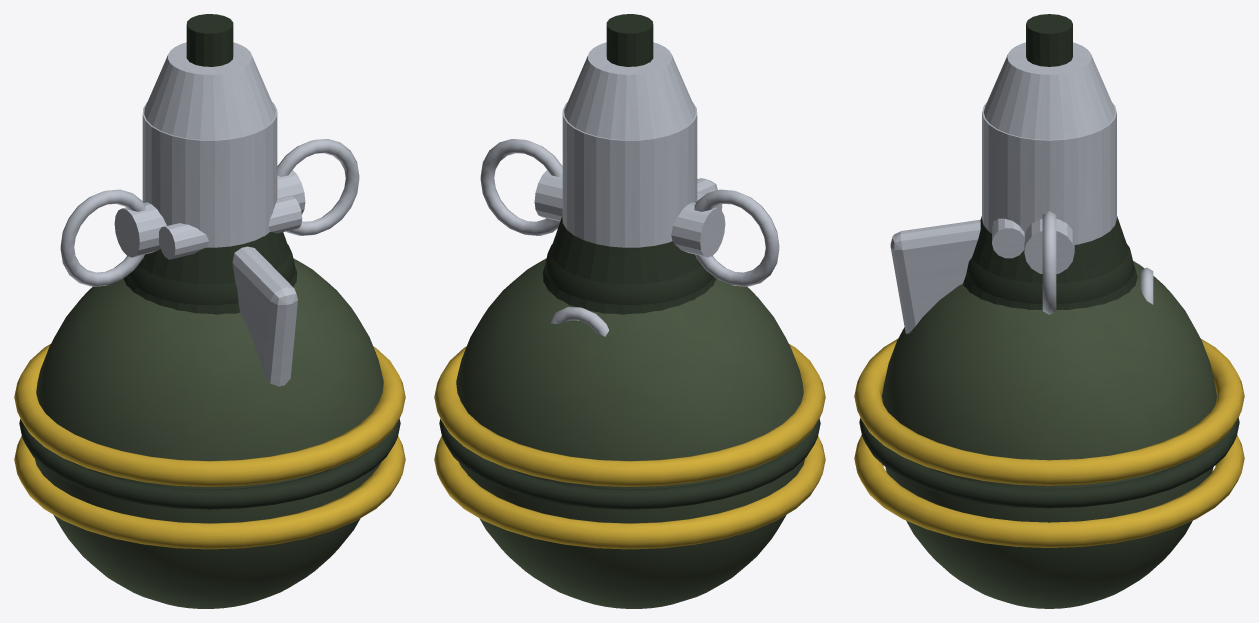
The model's file is wep_grenade.glb.
The picture shows the model from 3 angles, left to right: view 1: azimuth 30°, elevation 25°; view 2: azimuth 150°, elevation 25°; view 3: azimuth 270°, elevation 25°; orthographic projection.
Visible parts, largest first — view 1: wep_grenade_body, wep_grenade_fuze_body, wep_grenade_body_band_hi, wep_grenade_body_band_lo, wep_grenade_fuze_cap, wep_grenade_body_seam, wep_grenade_spoon, wep_grenade_fuze_neck, wep_grenade_pull_ring_l, wep_grenade_pull_ring_r, wep_grenade_top_dome, wep_grenade_spoon_pivot (+3 smaller); view 2: wep_grenade_body, wep_grenade_fuze_body, wep_grenade_body_band_hi, wep_grenade_body_band_lo, wep_grenade_fuze_cap, wep_grenade_body_seam, wep_grenade_fuze_neck, wep_grenade_top_dome, wep_grenade_pull_ring_l, wep_grenade_pull_ring_r, wep_grenade_fuze_crown, wep_grenade_pin_collar_l (+2 smaller); view 3: wep_grenade_body, wep_grenade_body_band_hi, wep_grenade_fuze_body, wep_grenade_body_band_lo, wep_grenade_fuze_cap, wep_grenade_body_seam, wep_grenade_spoon, wep_grenade_fuze_neck, wep_grenade_top_dome, wep_grenade_fuze_crown, wep_grenade_pin_collar_r, wep_grenade_pull_ring_r (+1 smaller).
Boxes of the visible parts, x1,y1,x2,y2 form: wep_grenade_body: [34, 258, 383, 608]; wep_grenade_fuze_body: [142, 102, 277, 247]; wep_grenade_body_band_hi: [14, 344, 405, 486]; wep_grenade_body_band_lo: [14, 436, 405, 549]; wep_grenade_fuze_cap: [144, 42, 275, 139]; wep_grenade_body_seam: [19, 419, 400, 509]; wep_grenade_spoon: [232, 246, 297, 386]; wep_grenade_fuze_neck: [123, 232, 297, 314]; wep_grenade_pull_ring_l: [60, 189, 145, 286]; wep_grenade_pull_ring_r: [277, 139, 359, 235]; wep_grenade_top_dome: [127, 244, 294, 304]; wep_grenade_spoon_pivot: [159, 195, 302, 259]; wep_grenade_body: [456, 258, 805, 608]; wep_grenade_fuze_body: [562, 102, 697, 247]; wep_grenade_body_band_hi: [434, 344, 825, 486]; wep_grenade_body_band_lo: [434, 436, 825, 549]; wep_grenade_fuze_cap: [564, 42, 695, 139]; wep_grenade_body_seam: [439, 419, 820, 509]; wep_grenade_fuze_neck: [542, 216, 716, 314]; wep_grenade_top_dome: [545, 244, 712, 304]; wep_grenade_pull_ring_l: [694, 189, 779, 286]; wep_grenade_pull_ring_r: [480, 139, 562, 235]; wep_grenade_fuze_crown: [606, 14, 653, 66]; wep_grenade_pin_collar_l: [671, 202, 725, 257]; wep_grenade_body: [882, 261, 1216, 608]; wep_grenade_body_band_hi: [854, 339, 1244, 485]; wep_grenade_fuze_body: [982, 102, 1116, 244]; wep_grenade_body_band_lo: [854, 435, 1244, 547]; wep_grenade_fuze_cap: [983, 42, 1115, 139]; wep_grenade_body_seam: [859, 418, 1239, 508]; wep_grenade_spoon: [890, 219, 980, 333]; wep_grenade_fuze_neck: [963, 216, 1137, 309]; wep_grenade_top_dome: [966, 244, 1134, 304]; wep_grenade_fuze_crown: [1026, 14, 1072, 66]; wep_grenade_pin_collar_r: [1024, 219, 1074, 273]; wep_grenade_pull_ring_r: [1042, 211, 1056, 314].
Bounding box in the file's own units: 0.0962 × 0.1547 × 0.0962.
Materials: 4 (4 with a texture image).
